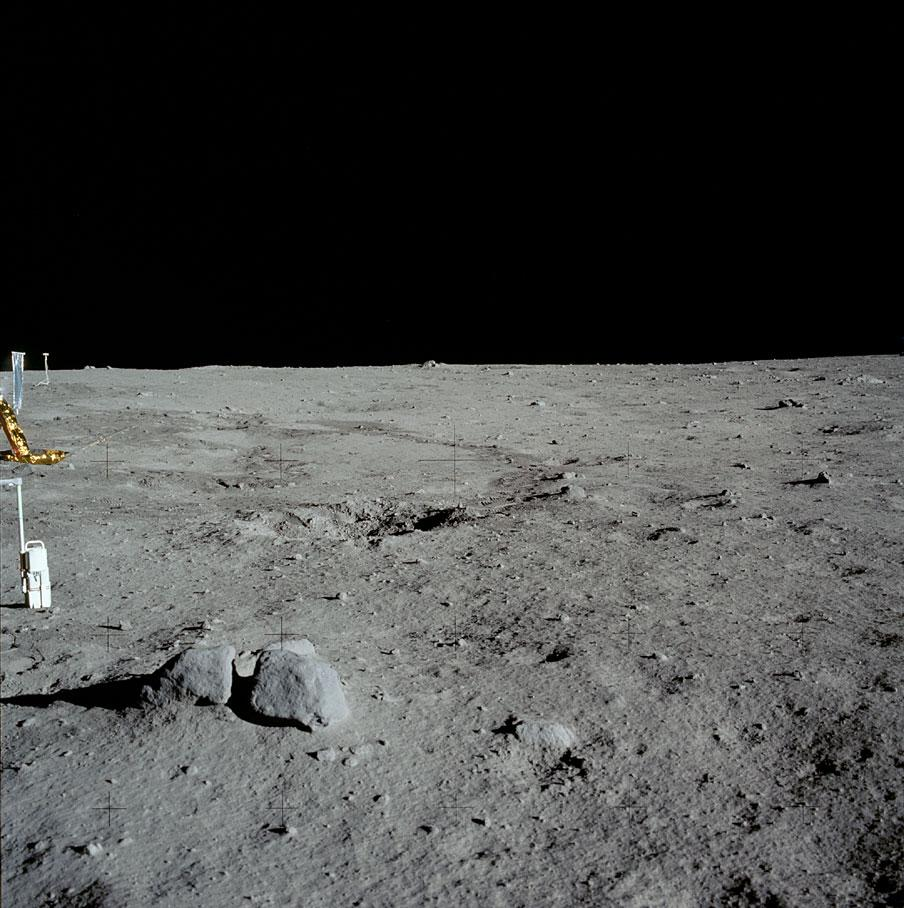rock: (252, 638, 349, 730), (142, 644, 236, 705)
